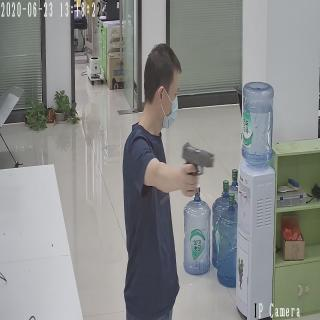gun: (180, 140, 215, 198)
